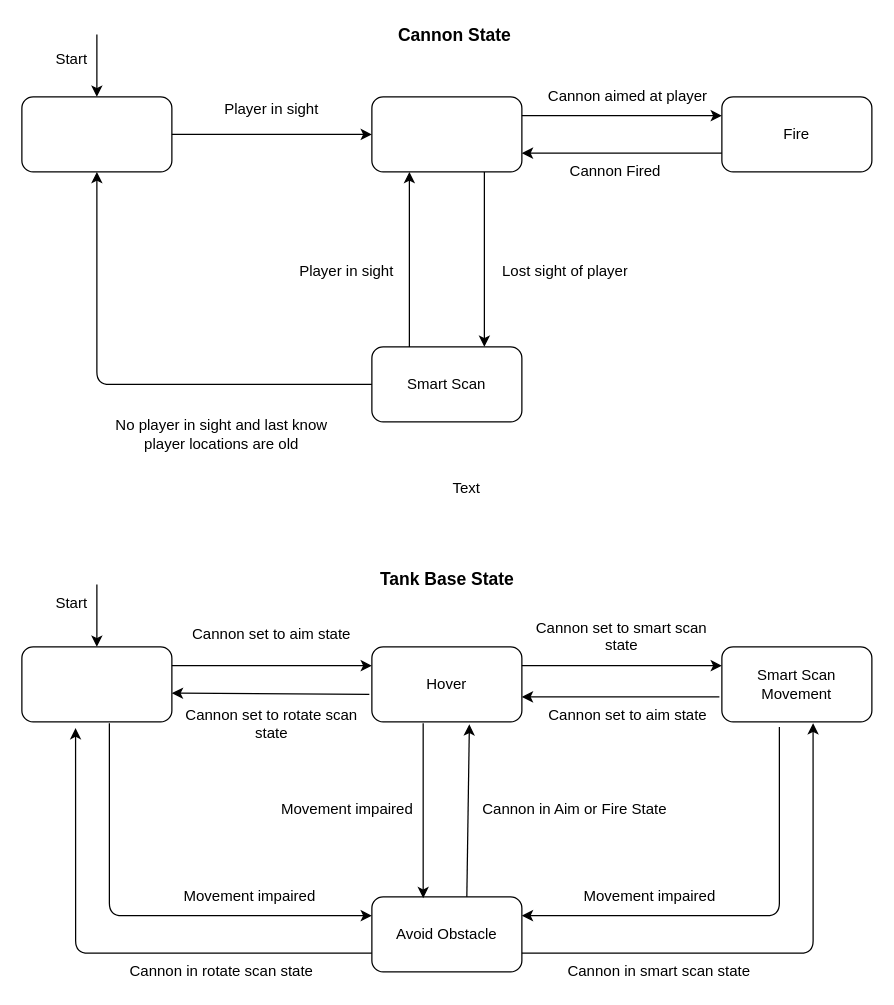
The diagram is 894 pixels wide and 1005 high, and some of its shapes have lost their labels. Each missing label, with the centre of its shape:
"Aim" goes at (x=446, y=134).
"Rotate Scan" goes at (x=96, y=134).
"Wander" goes at (x=96, y=684).
